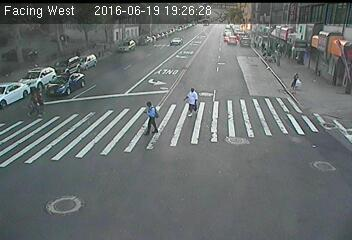neg: (278, 26, 291, 44), (305, 46, 314, 58), (290, 33, 299, 44)
pos: (181, 85, 207, 121), (137, 94, 163, 129), (285, 68, 308, 99)
